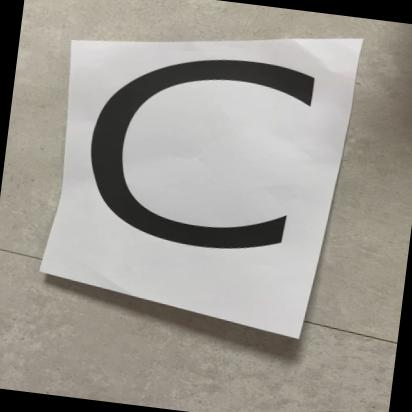seat: (45, 15, 351, 312)
